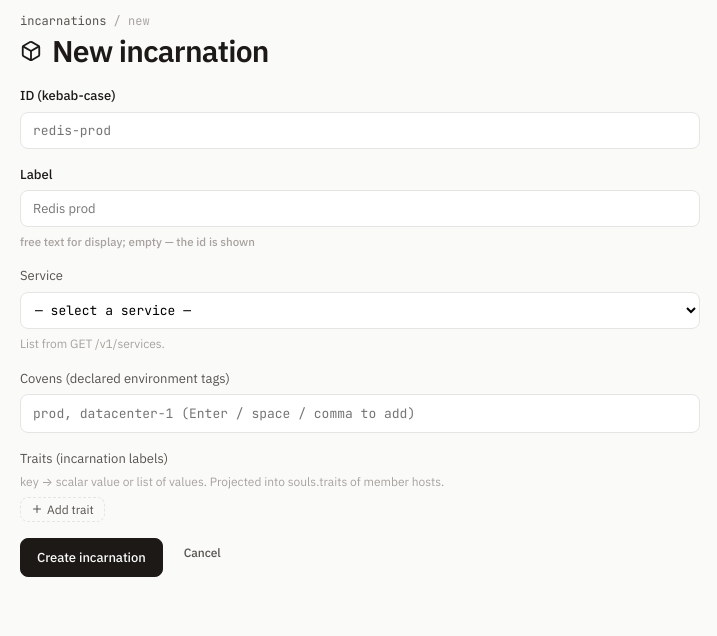
it: TraitsEditor in the incarnation create form › toggles mode string → list
What coordinates should you click on to do the following:
click the button with test id "traits-add-row"
I would click on:
 (62, 509)
Its box is [20,497,105,522].
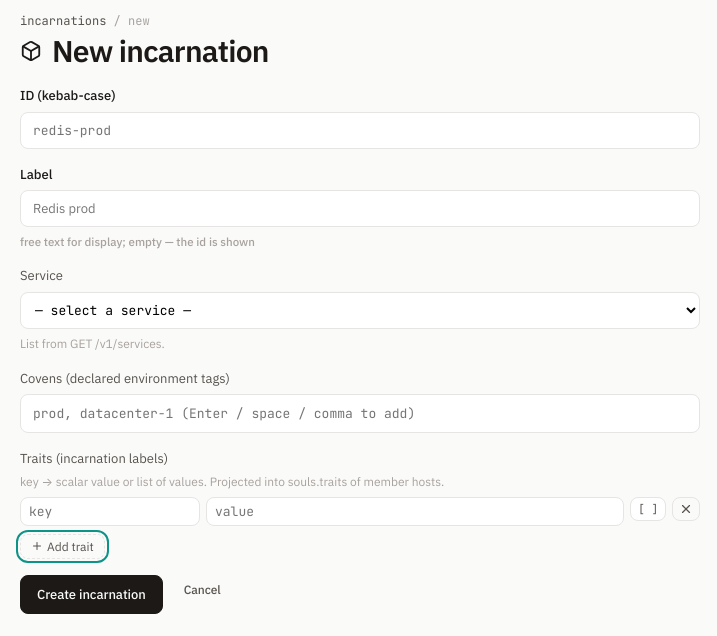
Expected: the button with test id "trait-mode-toggle" reads "[ ]"
What coordinates should you click on to do the following:
click the button with test id "trait-mode-toggle"
I would click on:
 (648, 509)
Its box is [630,497,666,521].
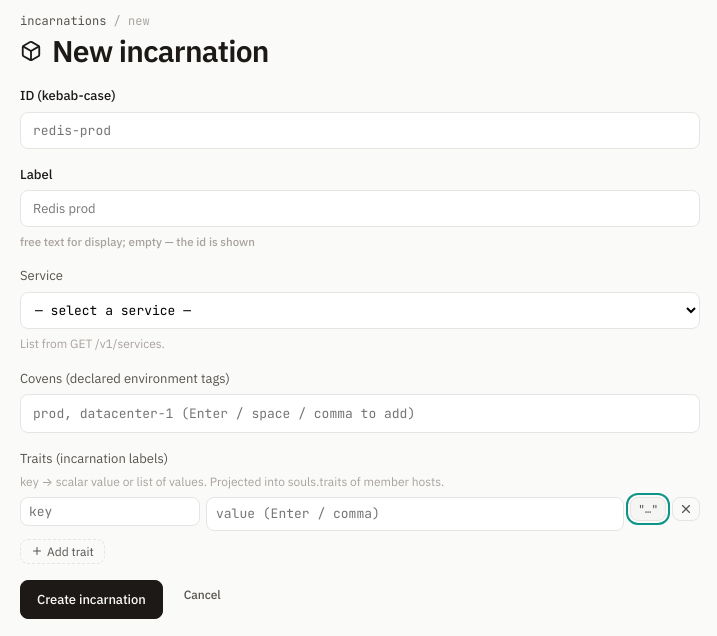
Expected: the button with test id "trait-mode-toggle" reads "\"…\"", [630,497,666,521]
